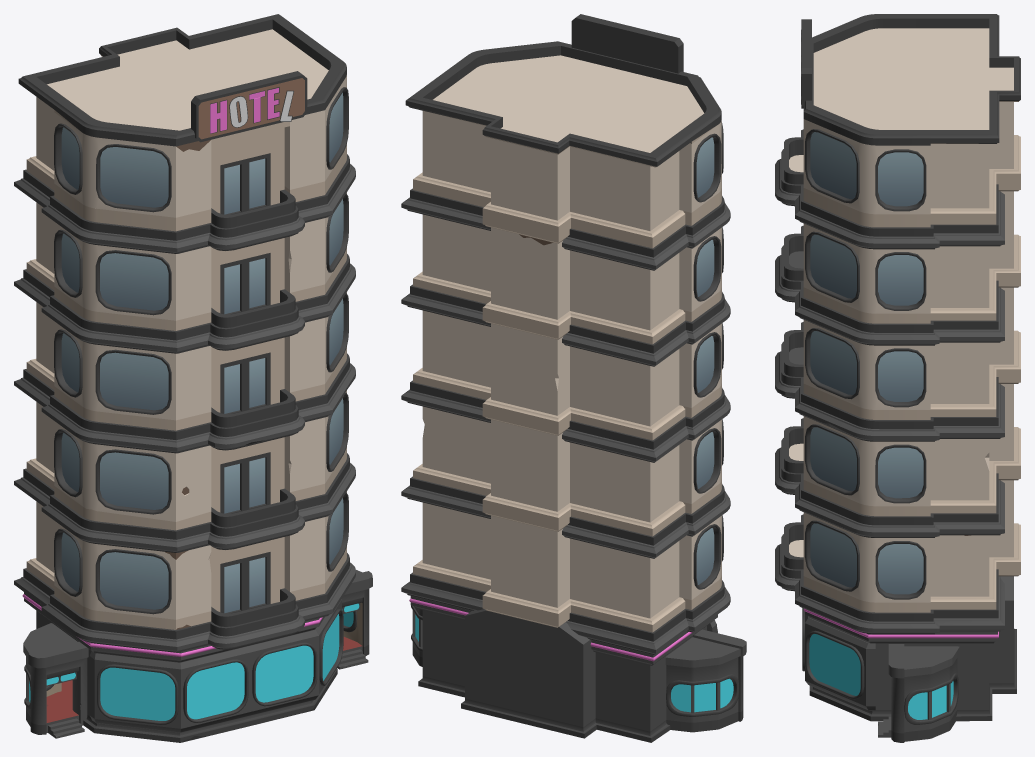
Rendered from SM_Buildings_Hotel_02.fbx.
3 renders of one model, left to right at view 1: azimuth 30°, elevation 25°; view 2: azimuth 150°, elevation 25°; view 3: azimuth 270°, elevation 25°, orthographic. The views are drawn at different scales.
Parts seen in each view (by area): view 1: SM_Buildings_Hotel_02; view 2: SM_Buildings_Hotel_02; view 3: SM_Buildings_Hotel_02.
Boxes of the visible parts, box(x1,y1,x2,y2) form: SM_Buildings_Hotel_02: box(14, 14, 372, 742); SM_Buildings_Hotel_02: box(401, 14, 746, 742); SM_Buildings_Hotel_02: box(775, 14, 1020, 742).
Bounding box in the file's own units: 21.62 × 38.98 × 14.
